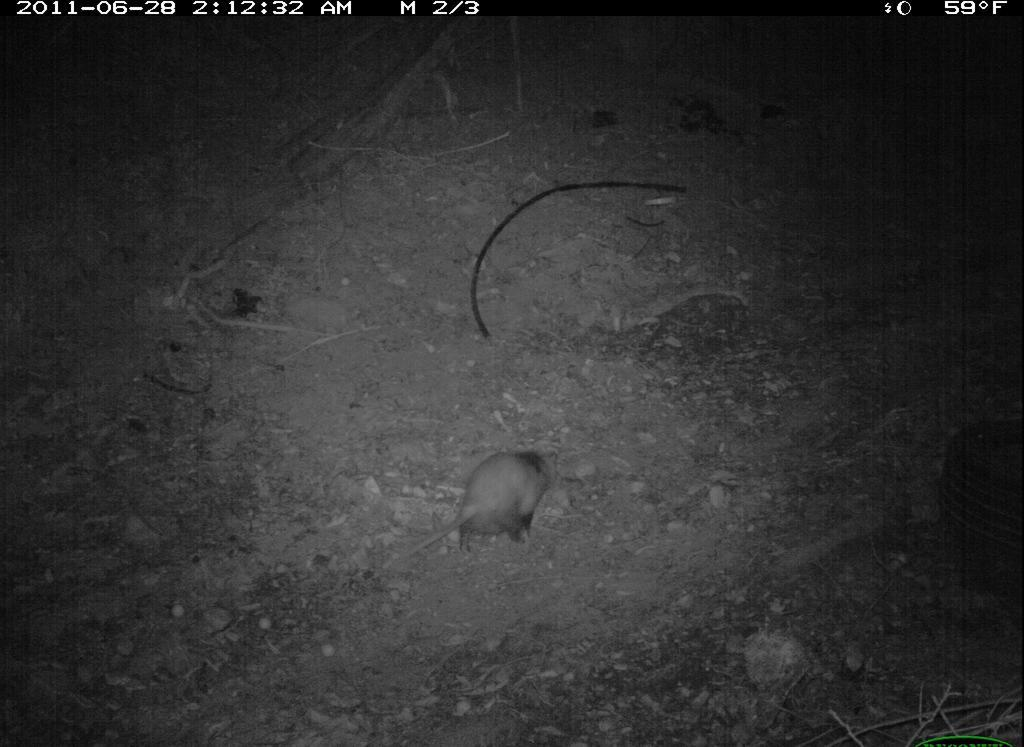opossum: (402, 442, 562, 577)
